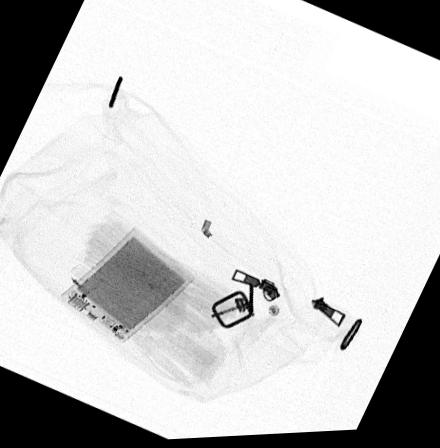Powerbank: (59, 226, 196, 344)
